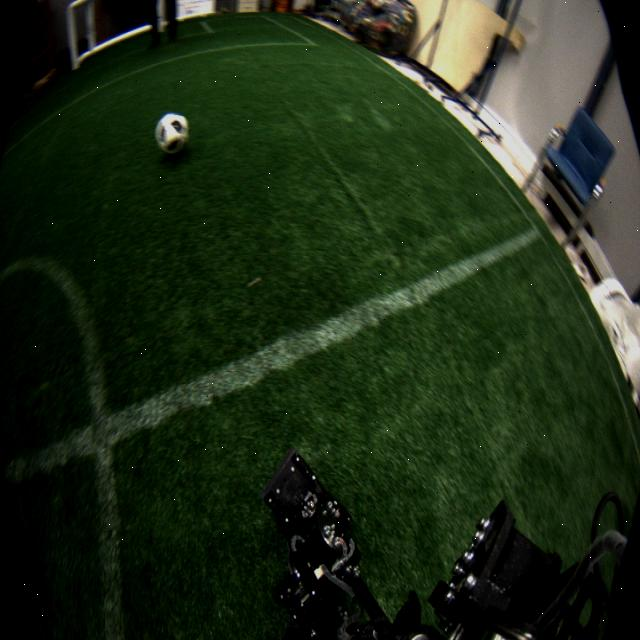ball: (157, 112, 190, 158)
goalpost: (66, 6, 80, 70), (155, 1, 164, 32)
